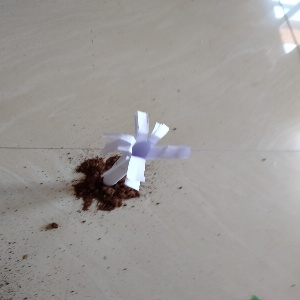weed: (93, 111, 185, 195)
